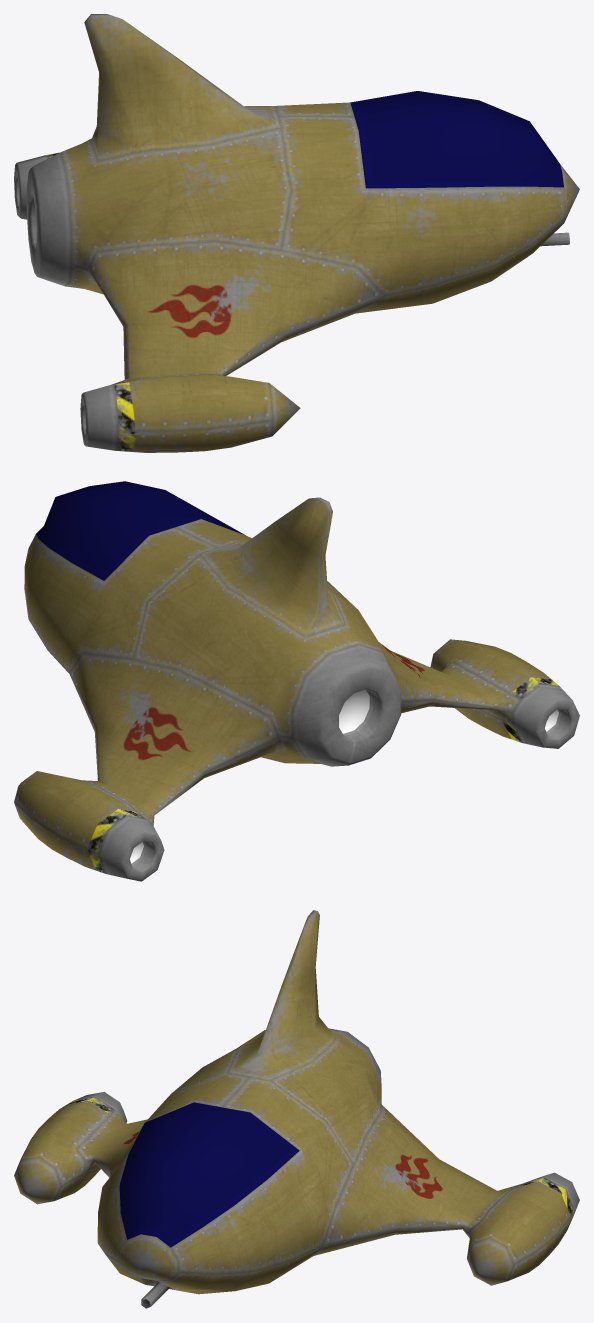
The model's file is ship2.obj.
3 renders of one model, top to bottom at view 1: azimuth 30°, elevation 25°; view 2: azimuth 150°, elevation 25°; view 3: azimuth 270°, elevation 25°, orthographic. The views are drawn at different scales.
Visible parts, largest first — view 1: Ship2_shipA.001; view 2: Ship2_shipA.001; view 3: Ship2_shipA.001.
Part boxes in pixels (<box>): Ship2_shipA.001: <box>14,14,579,452</box>; Ship2_shipA.001: <box>14,481,579,881</box>; Ship2_shipA.001: <box>14,910,579,1308</box>.
Bounding box in the file's own units: 0.0115 × 0.00678 × 0.0119.
